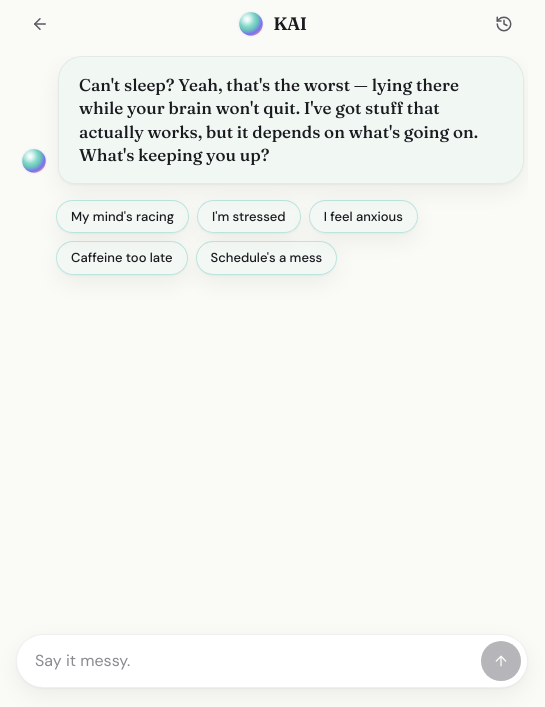
Test: Chat — Home quick action › sends the cause as a self-contained message into a fresh (null) conversation
Click the button "My mind's racing". click: (123,216)
box: [56, 200, 189, 233]
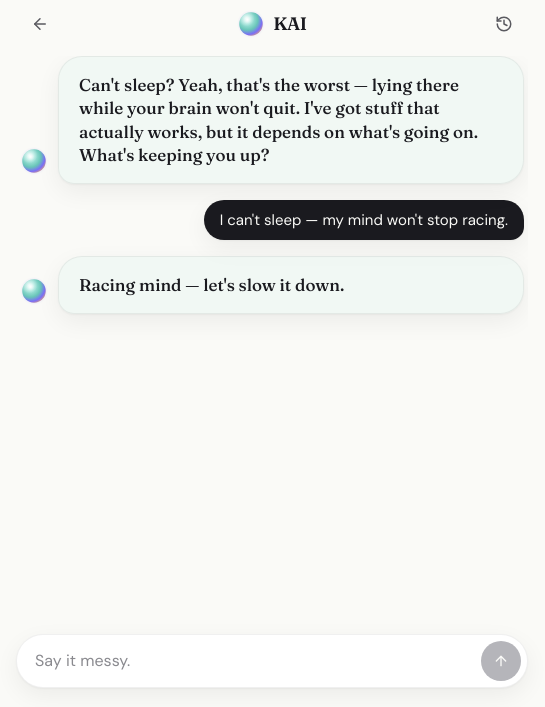
Expected: the text "I can't sleep — my mind won't stop racing." is shown, [220, 210, 508, 230]
Expected: the text "Racing mind — let's slow it down." is shown, [79, 274, 344, 295]
